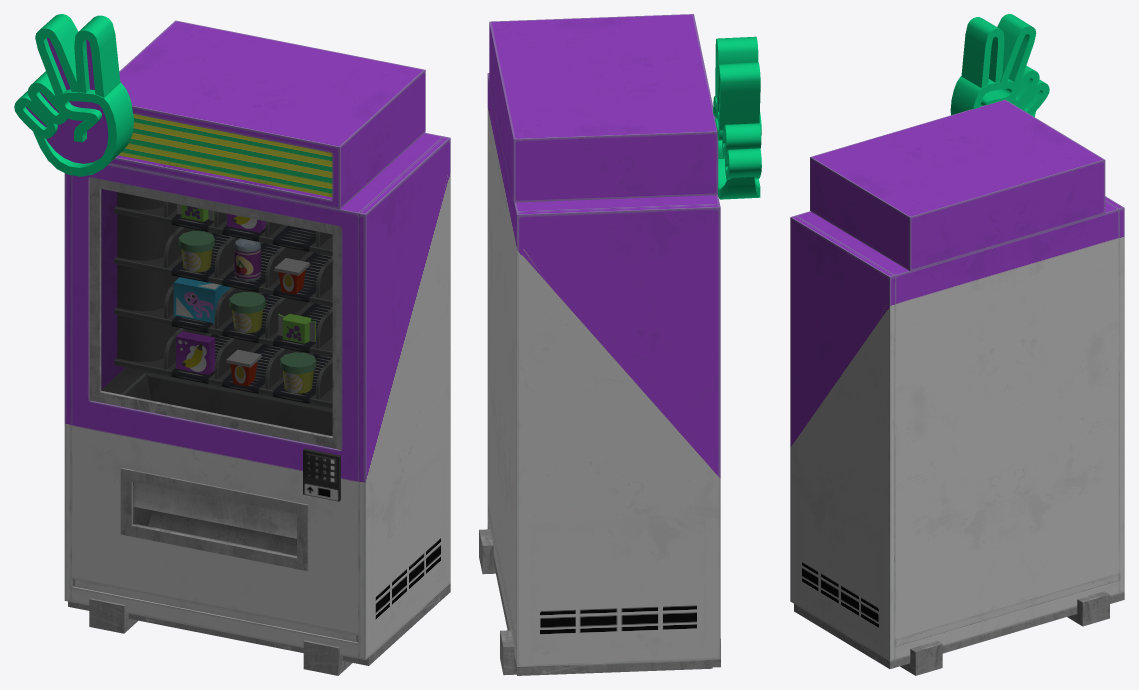
File: FoodVendingMachine_A.gltf
3 views of the same model, side by side, from view 1: azimuth 30°, elevation 25°; view 2: azimuth 150°, elevation 25°; view 3: azimuth 270°, elevation 25° (orthographic). The views are drawn at different scales.
Visible parts, largest first — view 1: SM_FoodVendingMachine, SM_FoodVendingMachinePart01, SM_FoodVendingMachinePart02, SM_food_pack_02, SM_food_pack_03_1, SM_food_soupe, SM_food_soupe_2, SM_food_soupe_1, SM_food_can, SM_food_candy_1, SM_food_pack_04_1, SM_food_pack_04; view 2: SM_FoodVendingMachine, SM_FoodVendingMachinePart01, SM_FoodVendingMachinePart02; view 3: SM_FoodVendingMachine, SM_FoodVendingMachinePart01, SM_FoodVendingMachinePart02.
Part boxes in pixels (x1,y1,x2,y2): SM_FoodVendingMachine: [64, 132, 450, 675]; SM_FoodVendingMachinePart01: [109, 20, 425, 209]; SM_FoodVendingMachinePart02: [14, 14, 133, 176]; SM_food_pack_02: [173, 277, 230, 323]; SM_food_pack_03_1: [176, 331, 215, 374]; SM_food_soupe: [178, 231, 214, 272]; SM_food_soupe_2: [280, 352, 316, 393]; SM_food_soupe_1: [229, 291, 265, 332]; SM_food_can: [234, 238, 260, 281]; SM_food_candy_1: [278, 314, 315, 343]; SM_food_pack_04_1: [226, 350, 261, 386]; SM_food_pack_04: [274, 258, 309, 294]; SM_FoodVendingMachine: [479, 73, 720, 675]; SM_FoodVendingMachinePart01: [489, 14, 718, 202]; SM_FoodVendingMachinePart02: [713, 36, 761, 199]; SM_FoodVendingMachine: [790, 196, 1124, 675]; SM_FoodVendingMachinePart01: [810, 99, 1105, 271]; SM_FoodVendingMachinePart02: [950, 14, 1049, 116].
Bounding box in the file's own units: 1.46 × 2.42 × 1.39.
